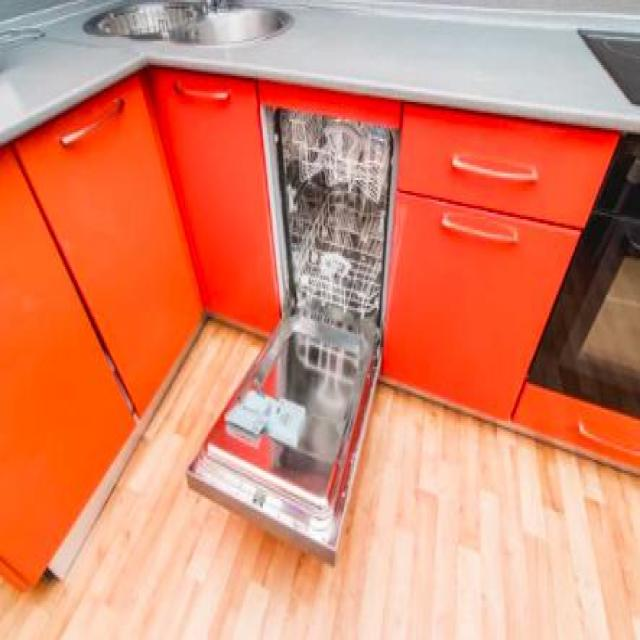dishwasher: (184, 84, 402, 556)
